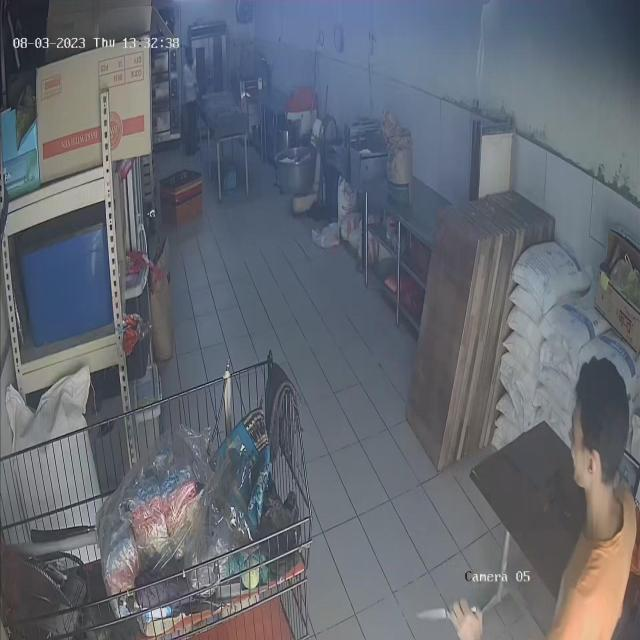Knife: (405, 597, 481, 631)
